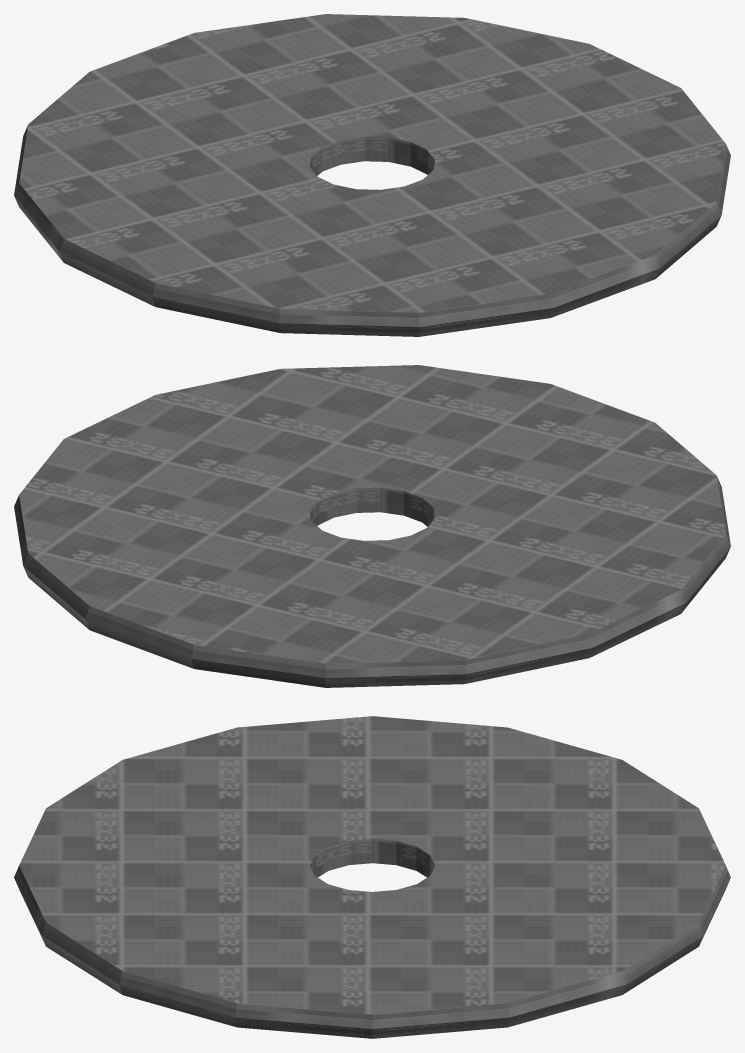
File: disk.fbx
The picture shows the model from 3 angles, top to bottom: view 1: azimuth 30°, elevation 25°; view 2: azimuth 150°, elevation 25°; view 3: azimuth 270°, elevation 25°; orthographic projection.
Parts seen in each view (by area): view 1: Cylinder; view 2: Cylinder; view 3: Cylinder.
Part boxes in pixels (x1,y1,x2,y2): Cylinder: (14,14,730,336); Cylinder: (14,365,730,687); Cylinder: (14,716,730,1038).
Bounding box in the file's own units: 2.77 × 2.77 × 0.1028.
